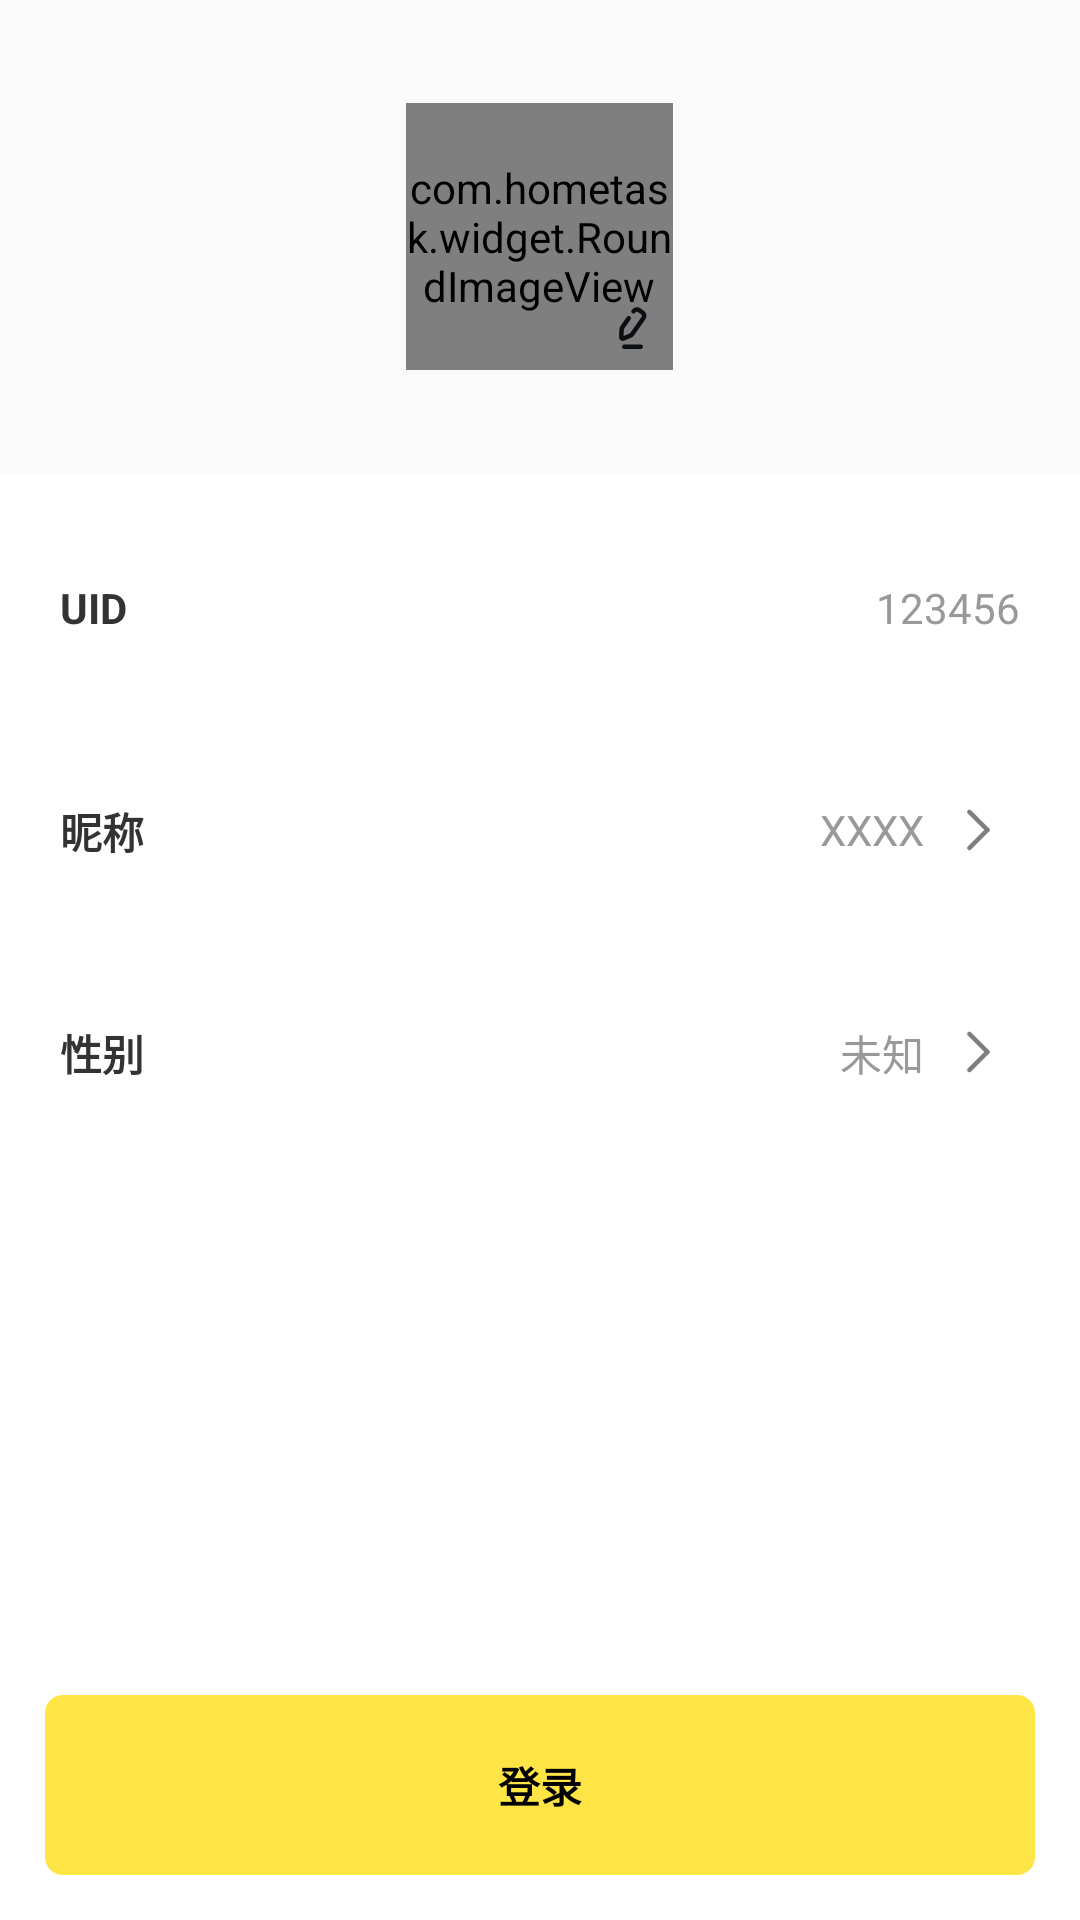

Icons on this 1080*1920 Android screen, each with the point to tap as (x=x, y=y):
personal edit information: (x=633, y=328)
set up list arrow: (x=978, y=830), (x=978, y=1052)
